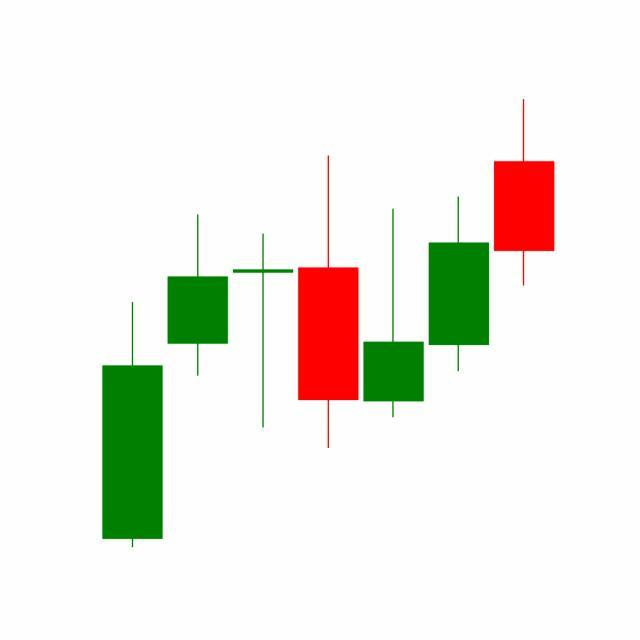Hikkake Pattern: (165, 152, 492, 452)
